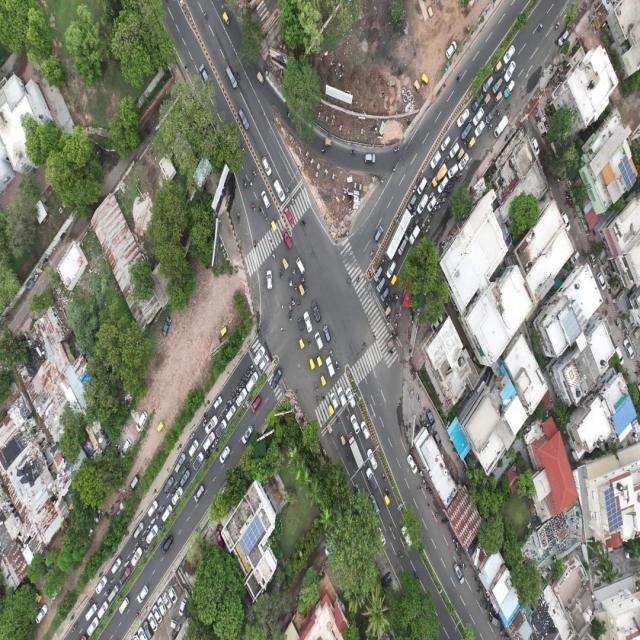3W: (155, 420, 164, 433), (492, 63, 501, 76), (298, 335, 305, 351), (256, 69, 264, 83), (325, 135, 333, 149), (219, 325, 228, 337), (482, 96, 491, 108), (412, 78, 419, 93), (316, 352, 323, 367), (339, 434, 346, 449), (282, 256, 289, 271), (222, 11, 230, 24), (309, 356, 315, 373), (320, 373, 327, 387), (298, 318, 305, 332), (421, 72, 429, 84), (389, 275, 397, 287), (270, 219, 277, 232), (327, 422, 333, 437), (384, 307, 391, 319), (456, 149, 463, 161), (383, 492, 390, 504), (299, 284, 305, 297), (495, 90, 502, 101), (386, 340, 394, 349), (468, 138, 475, 148)
Bus: (384, 210, 411, 261)
Cars: (273, 178, 286, 202), (135, 412, 148, 435), (493, 115, 506, 138), (261, 155, 274, 178), (106, 582, 119, 604), (121, 435, 134, 457), (453, 564, 466, 586), (173, 486, 185, 509), (227, 67, 238, 92), (138, 583, 150, 605), (311, 300, 322, 324), (282, 229, 293, 253), (428, 151, 441, 171), (85, 601, 97, 622), (192, 451, 204, 472), (484, 106, 496, 127), (481, 73, 494, 92), (205, 415, 218, 434), (238, 110, 251, 129), (203, 431, 215, 451), (96, 576, 108, 596), (147, 524, 159, 544), (163, 504, 175, 524), (245, 372, 257, 392), (446, 39, 458, 59), (264, 269, 276, 289), (455, 109, 468, 127), (408, 455, 419, 476), (164, 312, 174, 335), (314, 330, 324, 353), (400, 521, 410, 544), (95, 601, 107, 620), (257, 354, 269, 373), (385, 261, 397, 280), (456, 153, 468, 172), (241, 425, 253, 444), (436, 177, 449, 194), (130, 548, 141, 568), (119, 566, 130, 586), (216, 418, 227, 438), (367, 469, 377, 491), (368, 447, 378, 469), (162, 536, 173, 556), (272, 368, 282, 390), (180, 468, 191, 488), (346, 387, 357, 407), (219, 446, 231, 464), (406, 194, 417, 213), (416, 175, 427, 194), (193, 483, 204, 502), (250, 395, 261, 414), (119, 596, 130, 615), (471, 109, 484, 125), (323, 321, 332, 344), (129, 474, 139, 494), (284, 208, 294, 228), (175, 452, 185, 472), (361, 419, 370, 441), (473, 122, 484, 140), (365, 150, 378, 165), (253, 345, 263, 364), (148, 499, 158, 518), (326, 356, 335, 377), (471, 94, 482, 111), (504, 45, 515, 62), (86, 619, 96, 637), (304, 311, 313, 331), (459, 124, 471, 139), (492, 75, 502, 93), (351, 414, 360, 434), (375, 224, 384, 244), (505, 81, 515, 99), (224, 405, 235, 421), (447, 164, 458, 180), (262, 191, 271, 210), (164, 477, 174, 494), (190, 440, 200, 457), (506, 62, 516, 79), (330, 389, 338, 410), (338, 387, 346, 407), (440, 136, 450, 152), (134, 521, 144, 537), (111, 558, 121, 574), (449, 143, 458, 160), (375, 276, 384, 293), (380, 287, 389, 304), (237, 390, 247, 405), (213, 396, 223, 410), (427, 196, 436, 211), (372, 267, 381, 282)
LCV: (430, 163, 446, 187), (296, 258, 306, 276)
M2W: (313, 378, 319, 394), (203, 9, 210, 22), (250, 198, 256, 213), (278, 268, 284, 281), (251, 164, 257, 177), (398, 549, 404, 561), (414, 569, 420, 581), (290, 267, 296, 278), (237, 210, 242, 223), (431, 205, 437, 215), (443, 155, 449, 165), (388, 329, 394, 339), (287, 278, 293, 288), (345, 410, 350, 422), (243, 177, 248, 189), (257, 205, 263, 215), (351, 147, 357, 157), (321, 391, 326, 402), (427, 191, 433, 200), (424, 217, 430, 226), (434, 198, 440, 207), (394, 294, 400, 303), (385, 319, 391, 328), (335, 360, 341, 369), (287, 312, 293, 321), (249, 180, 255, 189), (538, 23, 544, 32), (305, 285, 309, 298), (381, 472, 386, 482), (296, 297, 301, 307), (385, 485, 390, 495), (457, 73, 462, 83), (419, 223, 425, 231), (151, 517, 157, 525), (382, 302, 388, 310), (301, 275, 305, 287), (230, 388, 235, 397), (206, 449, 211, 458), (555, 21, 560, 30), (307, 336, 311, 347), (140, 536, 146, 543), (124, 560, 130, 567), (249, 363, 254, 371), (440, 190, 445, 198), (316, 393, 320, 403), (408, 331, 412, 341), (396, 311, 400, 321), (329, 348, 333, 358), (269, 236, 273, 246), (291, 296, 295, 306), (294, 285, 298, 295), (190, 430, 194, 440), (410, 315, 414, 325), (445, 183, 449, 192), (453, 175, 459, 181), (170, 486, 174, 495), (394, 330, 398, 339), (272, 251, 276, 260), (288, 304, 292, 313), (337, 414, 340, 426), (220, 412, 224, 420), (419, 230, 423, 238), (502, 67, 506, 75), (389, 292, 394, 298), (414, 220, 418, 227), (216, 438, 220, 445), (419, 217, 423, 224), (445, 192, 448, 200), (242, 376, 245, 383), (230, 397, 233, 404), (440, 198, 444, 203), (386, 296, 389, 302), (390, 300, 393, 306), (264, 214, 267, 220), (394, 322, 397, 328)
MAV: (417, 194, 427, 214)
Truck: (348, 433, 365, 469)
